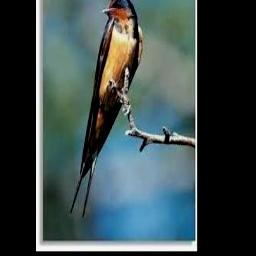Swallow: (70, 0, 143, 217)
